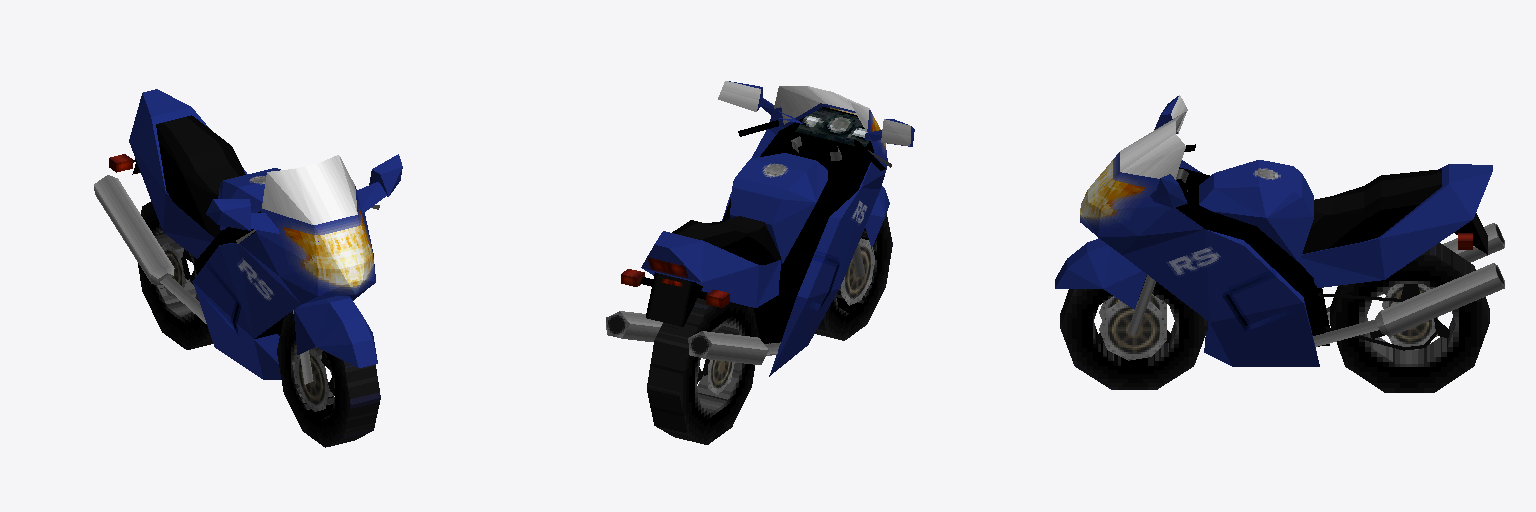
3 views of the same model, side by side, from view 1: azimuth 30°, elevation 25°; view 2: azimuth 150°, elevation 25°; view 3: azimuth 270°, elevation 25° (orthographic).
Bounding box in the file's own units: 2.19 × 2.79 × 4.42.
1 materials, 1 textured.